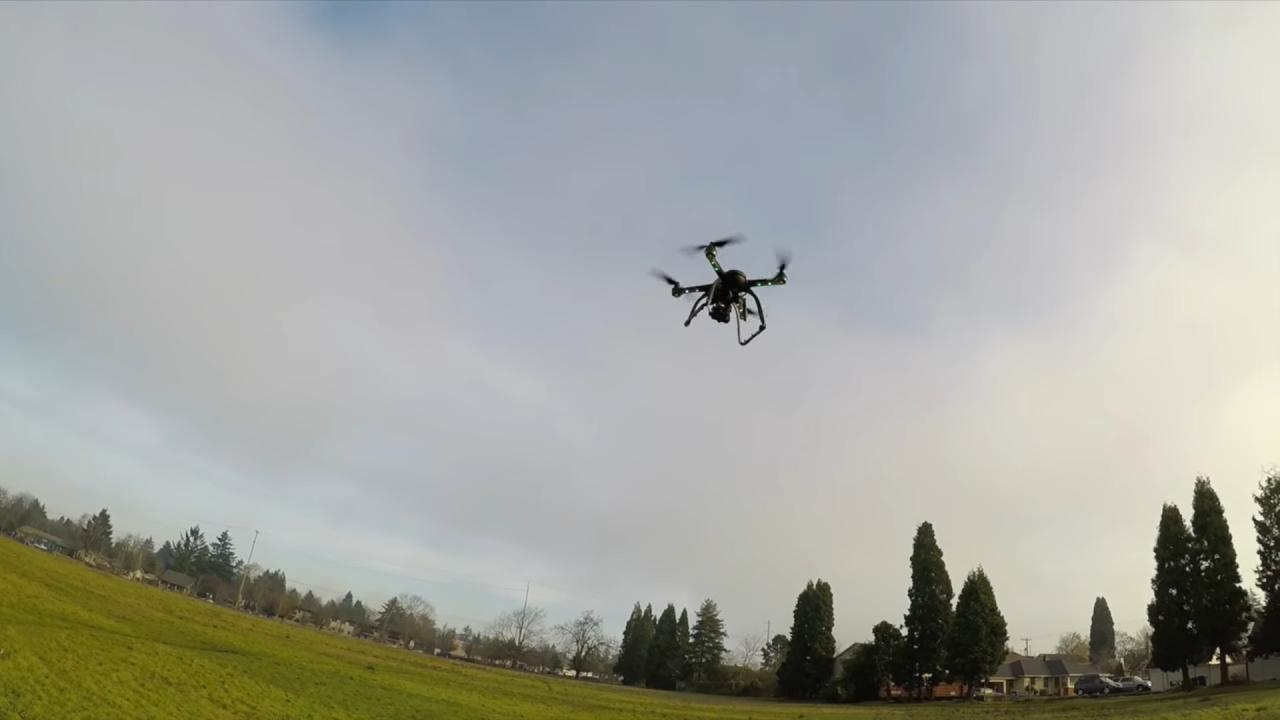Drone: (641, 223, 806, 354)
